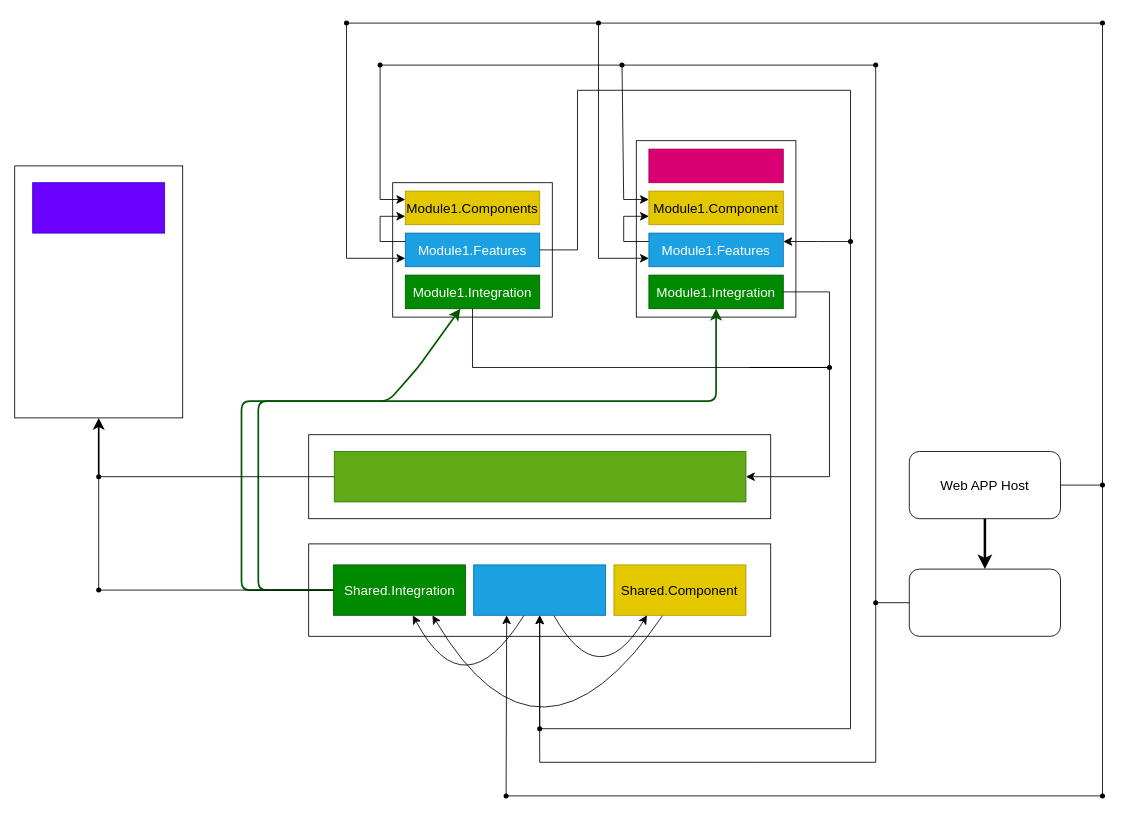
Some shapes in this 1126 by 819 pixel diagram are drawn without their labels. Here are the shapes that lost their labels. From the top down, the box of each, then its label:
(648, 148, 783, 183): Module1.Server
(32, 182, 165, 233): Fadi.Result
(333, 451, 746, 502): Modules.Integration
(473, 564, 606, 615): Shared.Features
(908, 568, 1060, 636): Client APP
